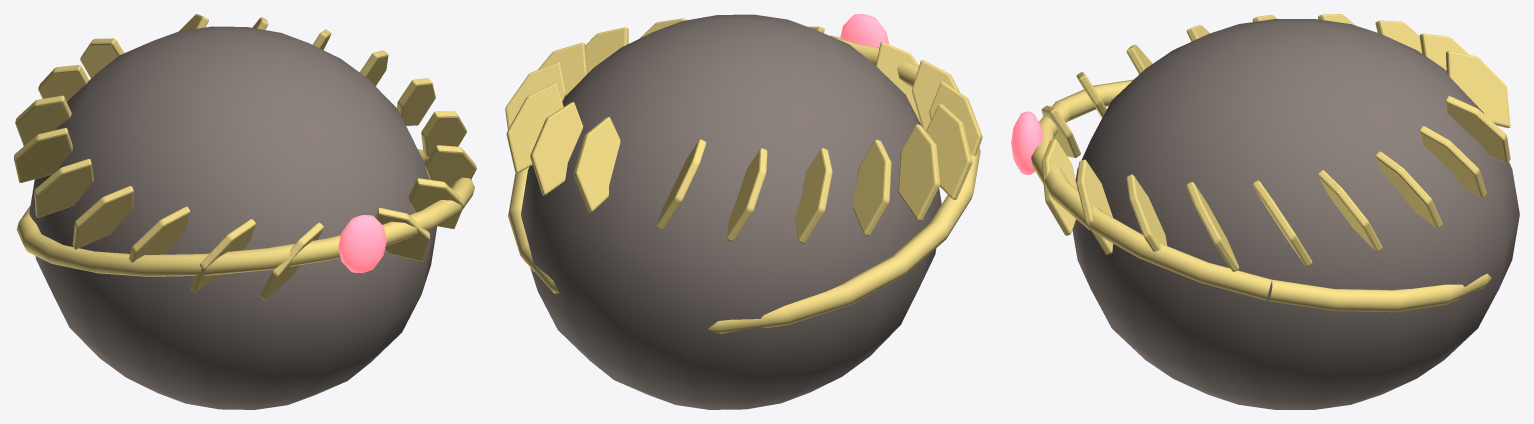
File: boss_caesar.glb
3 views of the same model, side by side, from view 1: azimuth 30°, elevation 25°; view 2: azimuth 150°, elevation 25°; view 3: azimuth 270°, elevation 25° (orthographic). The views are drawn at different scales.
Visible parts, largest first — view 1: CaesarHairCap, LaurelStemBand, LaurelForeheadGem, LaurelLeaf_L_4, LaurelLeaf_L_3, LaurelLeaf_L_5, LaurelLeaf_L_2, LaurelLeaf_L_6, LaurelLeaf_R_6, LaurelLeaf_R_5, LaurelLeaf_R_8, LaurelLeaf_R_7 (+6 smaller); view 2: CaesarHairCap, LaurelStemBand, LaurelLeaf_R_1, LaurelLeaf_L_4, LaurelLeaf_R_0, LaurelLeaf_L_5, LaurelLeaf_L_3, LaurelLeaf_R_2, LaurelLeaf_L_2, LaurelLeaf_L_1, LaurelLeaf_L_6, LaurelLeaf_L_7 (+6 smaller); view 3: CaesarHairCap, LaurelStemBand, LaurelLeaf_L_0, LaurelLeaf_R_0, LaurelLeaf_R_1, LaurelLeaf_R_2, LaurelLeaf_R_7, LaurelLeaf_R_8, LaurelForeheadGem, LaurelLeaf_R_6, LaurelLeaf_R_3, LaurelLeaf_R_5 (+5 smaller).
Boxes of the visible parts, x1,y1,x2,y2 form: CaesarHairCap: (29, 26, 437, 409); LaurelStemBand: (16, 149, 474, 276); LaurelForeheadGem: (338, 215, 386, 272); LaurelLeaf_L_4: (34, 159, 93, 217); LaurelLeaf_L_3: (14, 128, 72, 182); LaurelLeaf_L_5: (72, 186, 133, 249); LaurelLeaf_L_2: (15, 95, 71, 145); LaurelLeaf_L_6: (129, 206, 190, 262); LaurelLeaf_R_6: (425, 145, 476, 187); LaurelLeaf_R_5: (421, 111, 466, 156); LaurelLeaf_R_8: (375, 208, 430, 261); LaurelLeaf_R_7: (408, 178, 464, 228); CaesarHairCap: (521, 14, 941, 409); LaurelStemBand: (508, 35, 980, 333); LaurelLeaf_R_1: (530, 102, 583, 195); LaurelLeaf_L_4: (898, 124, 940, 220); LaurelLeaf_R_0: (573, 117, 620, 212); LaurelLeaf_L_5: (925, 104, 972, 199); LaurelLeaf_L_3: (853, 139, 891, 236); LaurelLeaf_R_2: (506, 83, 563, 173); LaurelLeaf_L_2: (795, 148, 832, 243); LaurelLeaf_L_1: (727, 148, 767, 241); LaurelLeaf_L_6: (929, 81, 982, 155); LaurelLeaf_L_7: (912, 60, 959, 130); CaesarHairCap: (1072, 19, 1519, 409); LaurelStemBand: (1031, 79, 1491, 312); LaurelLeaf_L_0: (1446, 51, 1510, 127); LaurelLeaf_R_0: (1446, 96, 1510, 163); LaurelLeaf_R_1: (1419, 126, 1486, 198); LaurelLeaf_R_2: (1375, 151, 1442, 228); LaurelLeaf_R_7: (1076, 159, 1113, 254); LaurelLeaf_R_8: (1041, 139, 1077, 235); LaurelForeheadGem: (1011, 111, 1043, 174); LaurelLeaf_R_6: (1126, 174, 1167, 251); LaurelLeaf_R_3: (1318, 170, 1382, 251); LaurelLeaf_R_5: (1186, 182, 1239, 271).
Bounding box in the file's own units: 0.2255 × 0.183 × 0.2399.
